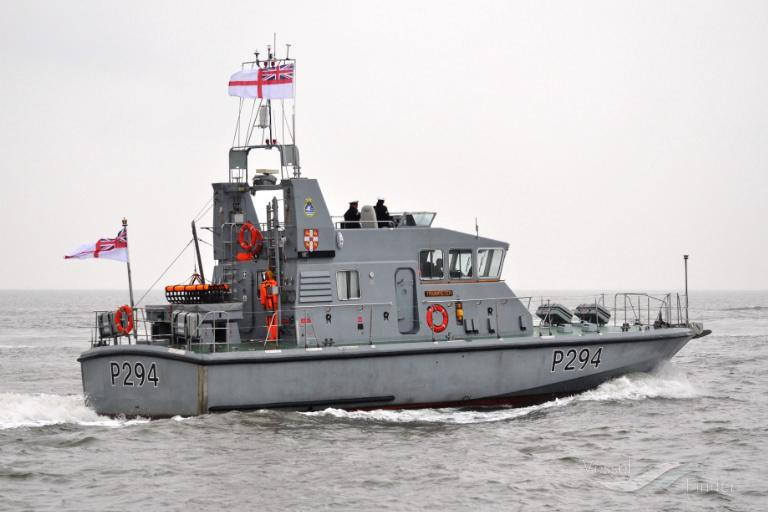OCR: (106, 355, 164, 395), (550, 345, 608, 375)
